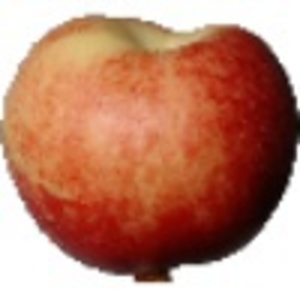nectarina: (1, 12, 300, 287)
